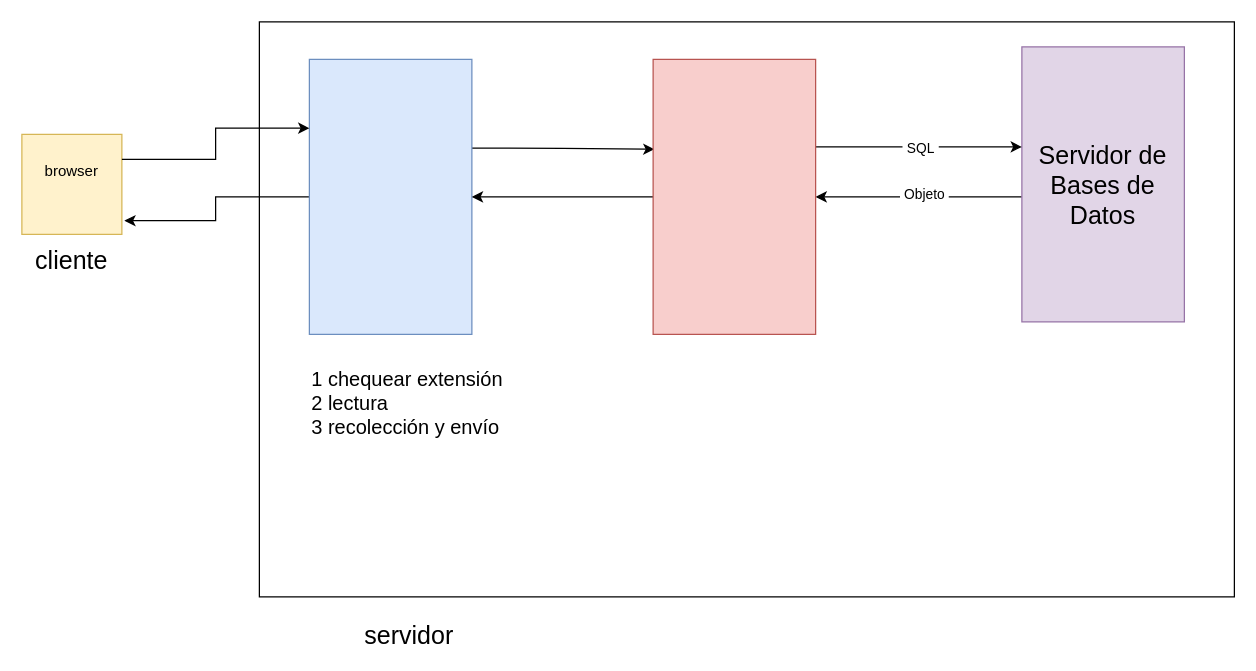
Image size: 1256x671. Some labels were removed from this diagram. Each missing label, with the centre of its shape:
IC de PHP: the point at 734,196
Servidor Web: the point at 390,196
